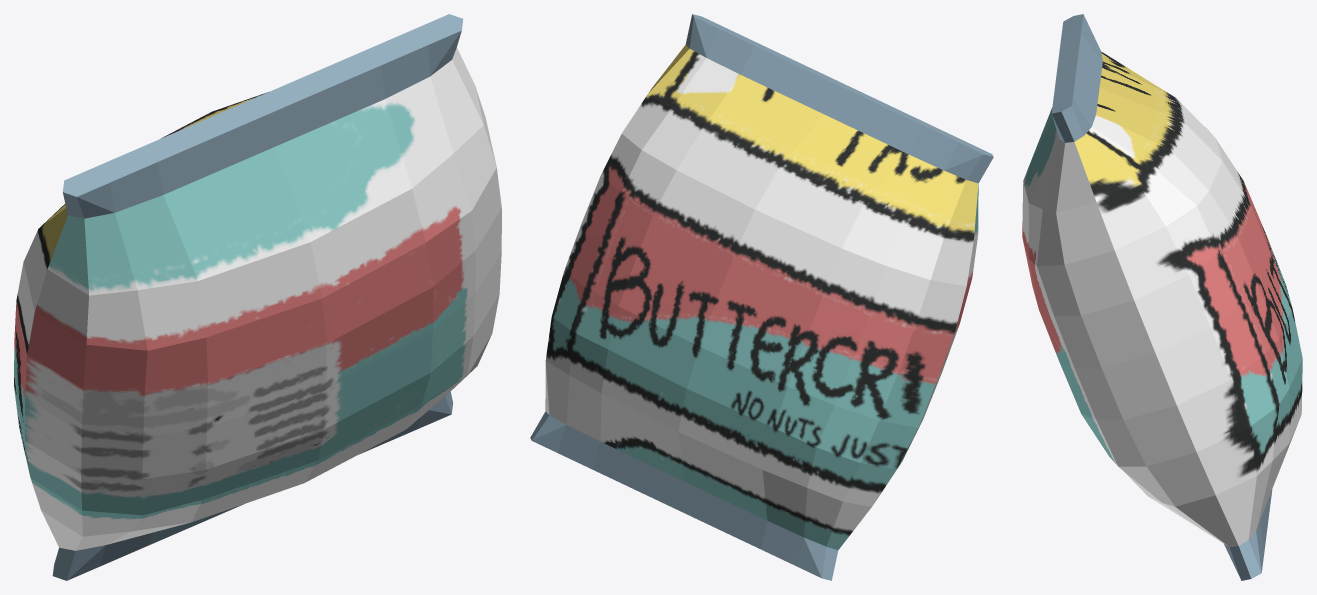
File: Snack.CheesePoofer.fbx
3 renders of one model, left to right at view 1: azimuth 30°, elevation 25°; view 2: azimuth 150°, elevation 25°; view 3: azimuth 270°, elevation 25°, orthographic. The views are drawn at different scales.
Visible parts, largest first — view 1: Snack.CheesePoofer; view 2: Snack.CheesePoofer; view 3: Snack.CheesePoofer.
Part boxes in pixels (<box>): Snack.CheesePoofer: <box>14,14,501,580</box>; Snack.CheesePoofer: <box>530,14,993,580</box>; Snack.CheesePoofer: <box>1022,14,1302,580</box>.
Bounding box in the file's own units: 122 × 137 × 69.24.
